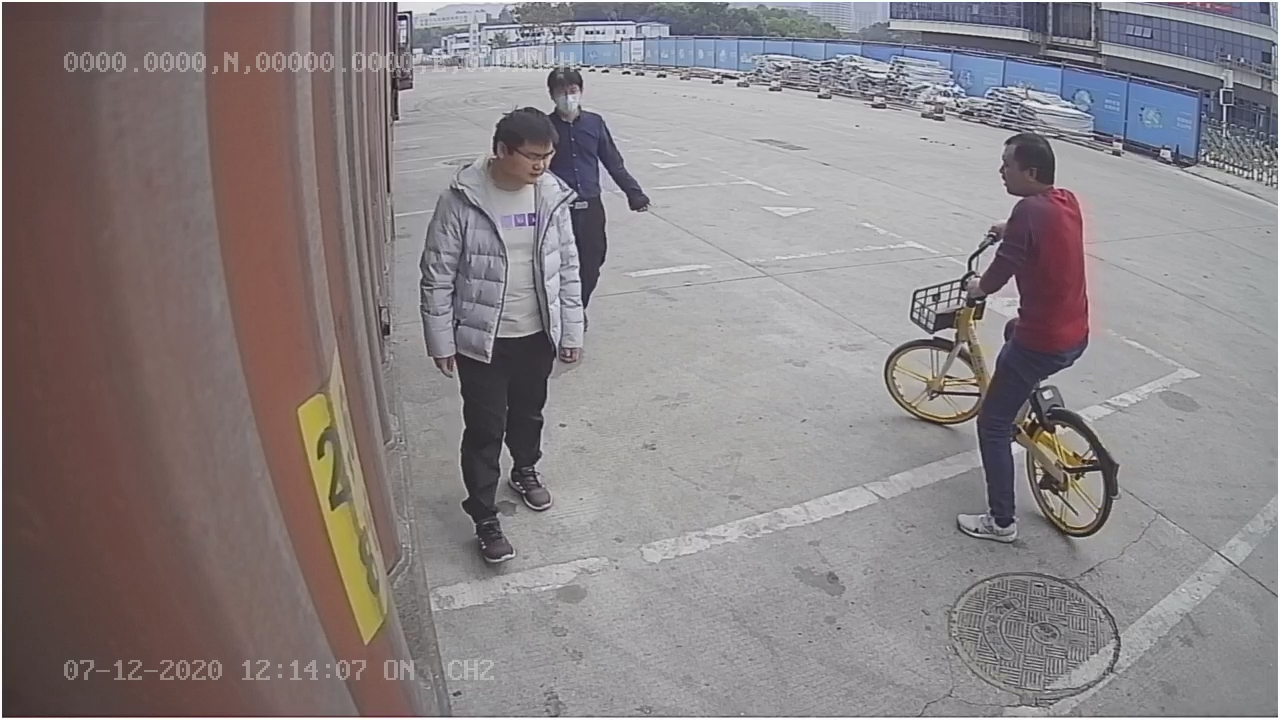person: (419, 108, 588, 563)
